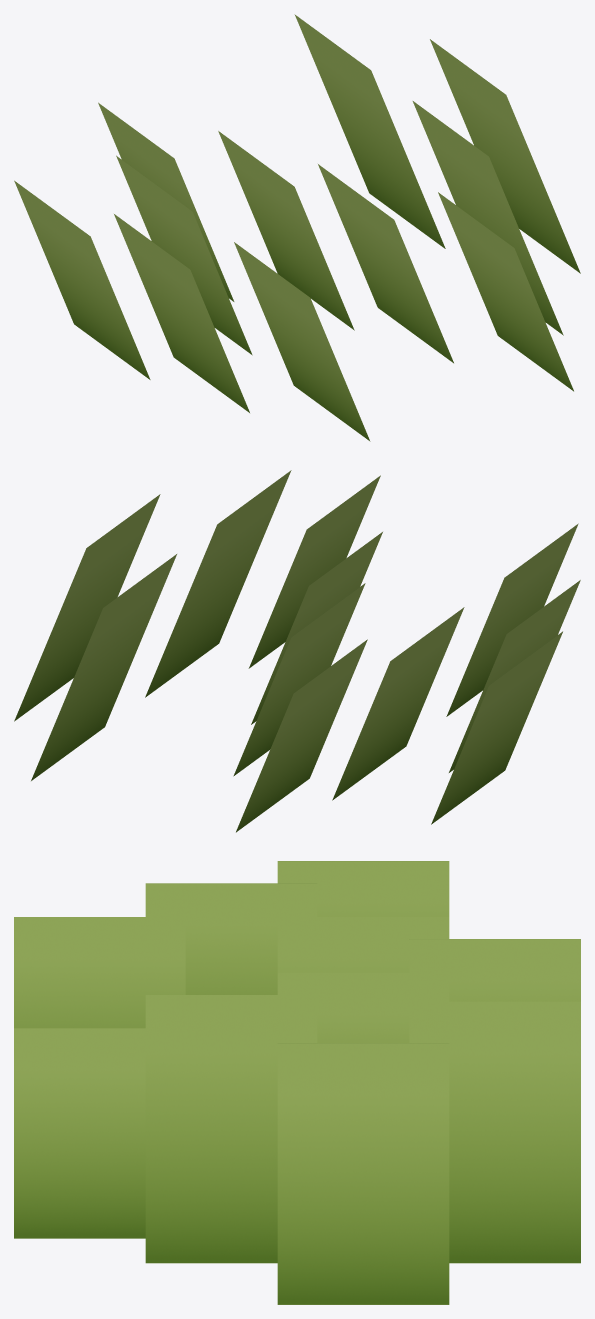
File: grass_2.fbx
3 views of the same model, one above another, from view 1: azimuth 30°, elevation 25°; view 2: azimuth 150°, elevation 25°; view 3: azimuth 270°, elevation 25° (orthographic). The views are drawn at different scales.
Visible parts, largest first — view 1: Cube; view 2: Cube; view 3: Cube.
Part boxes in pixels (box(x1,y1,x2,y2)): Cube: box(14, 14, 580, 441); Cube: box(14, 470, 580, 832); Cube: box(14, 861, 580, 1304).
Bounding box in the file's own units: 240 × 93.16 × 215.
1 material, 1 textured.
